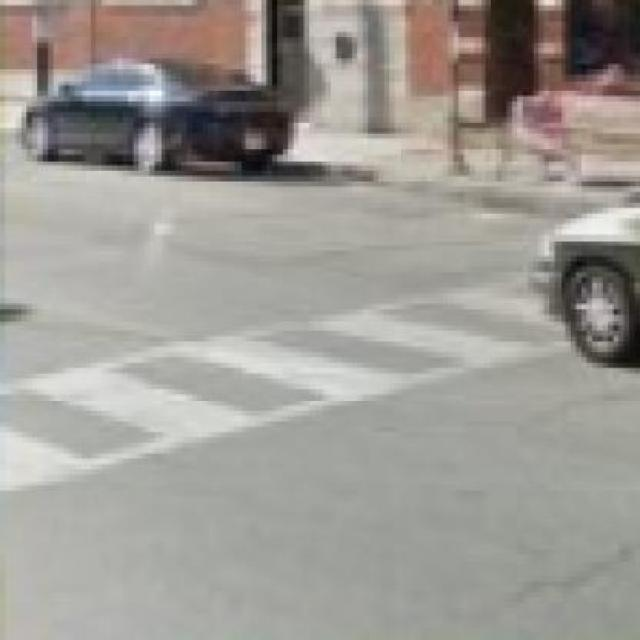crosswalk: (3, 285, 559, 490)
